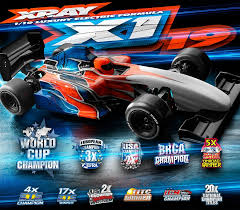FormulaOneCar: (2, 30, 240, 143)
